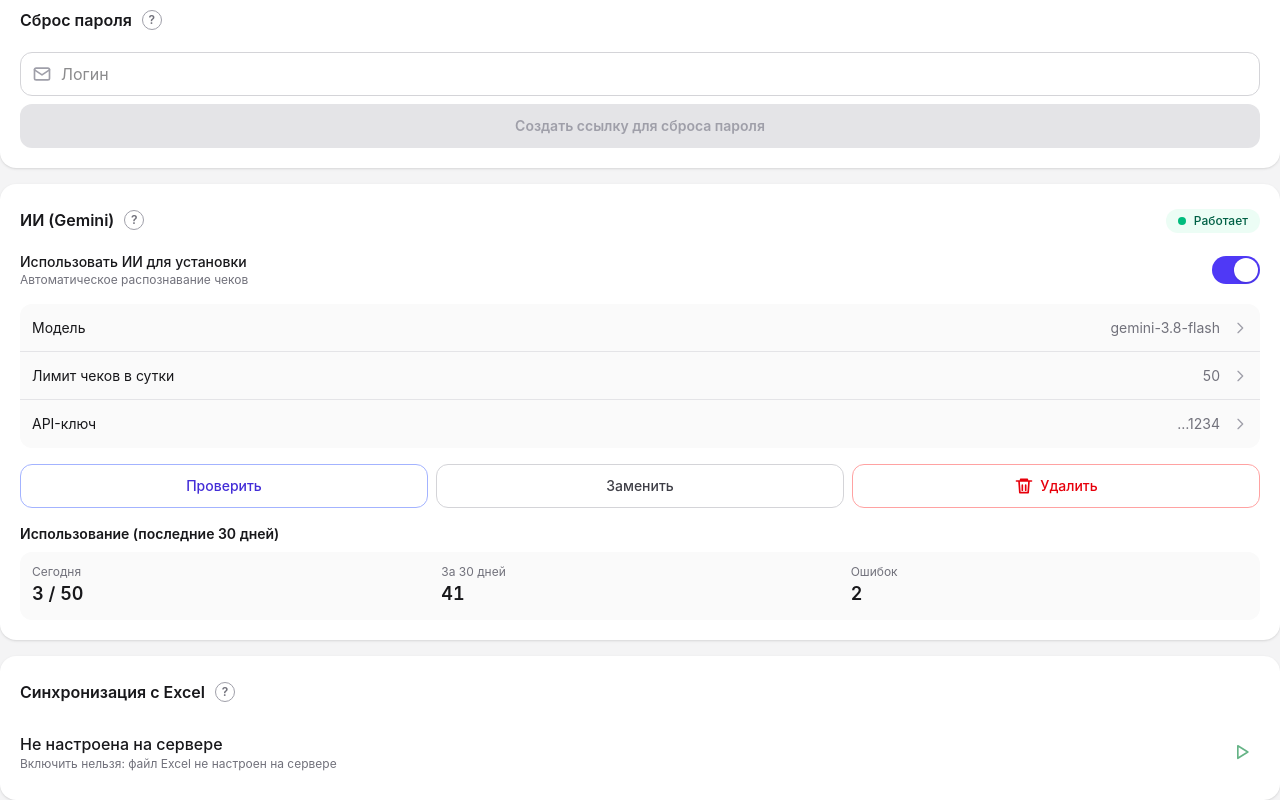
Test: админ: список настроек и окна › «Заменить» открывает то же окно ключа
(page scrolled)
Expected: the element "Использование" is shown, left=20, top=524, right=1260, bottom=620
What coordinates should you click on to do the following:
click the button "Заменить"
I would click on:
 (640, 486)
Its box is left=436, top=464, right=844, bottom=508.
(page scrolled)
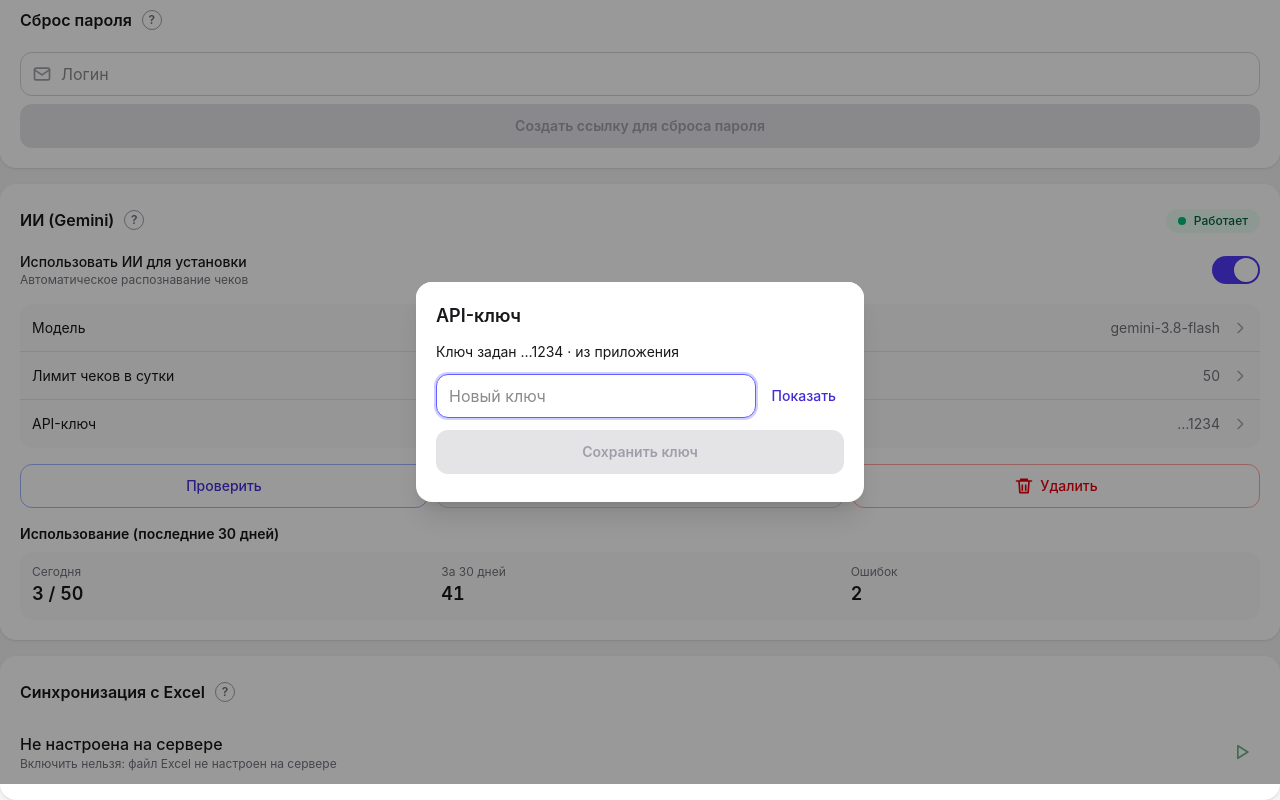
Now the dialog "API-ключ" is shown, box left=416, top=282, right=864, bottom=502
